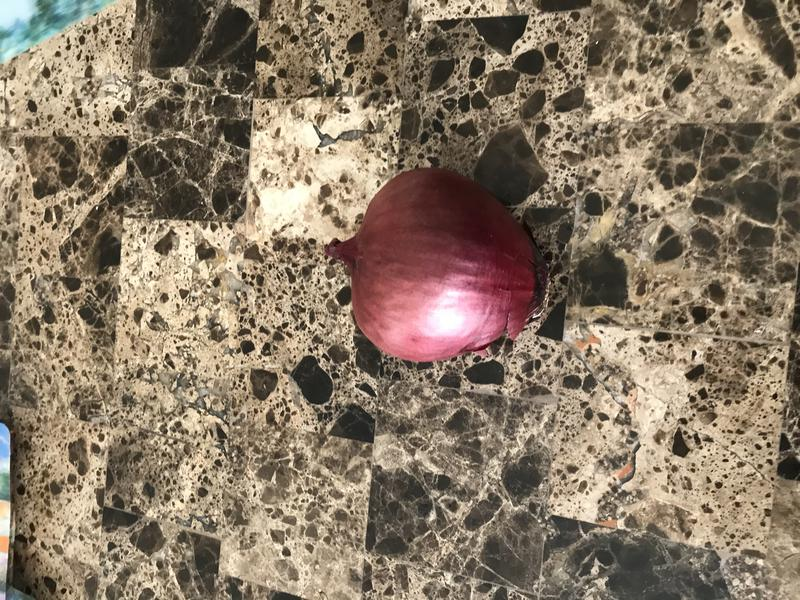purple_onion: (321, 156, 544, 366)
